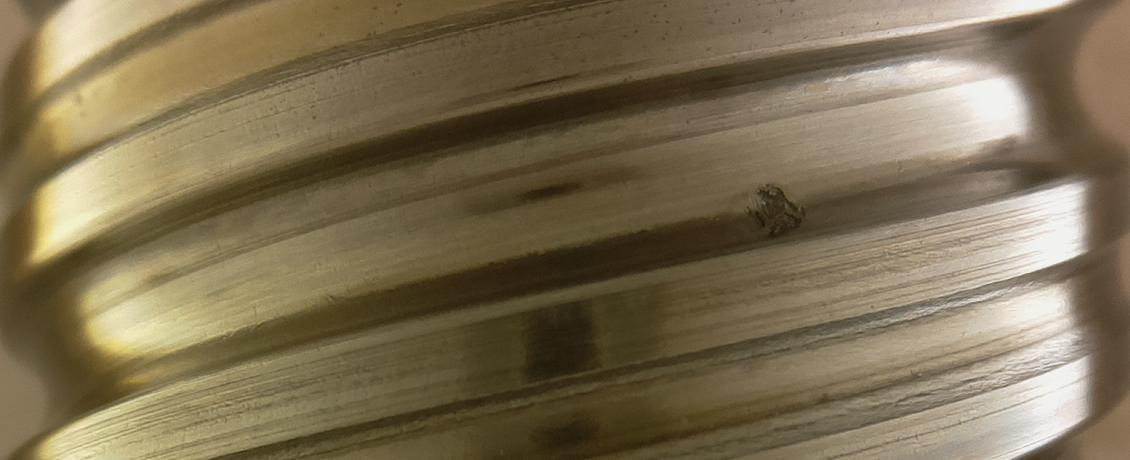pitting: (744, 182, 805, 240)
